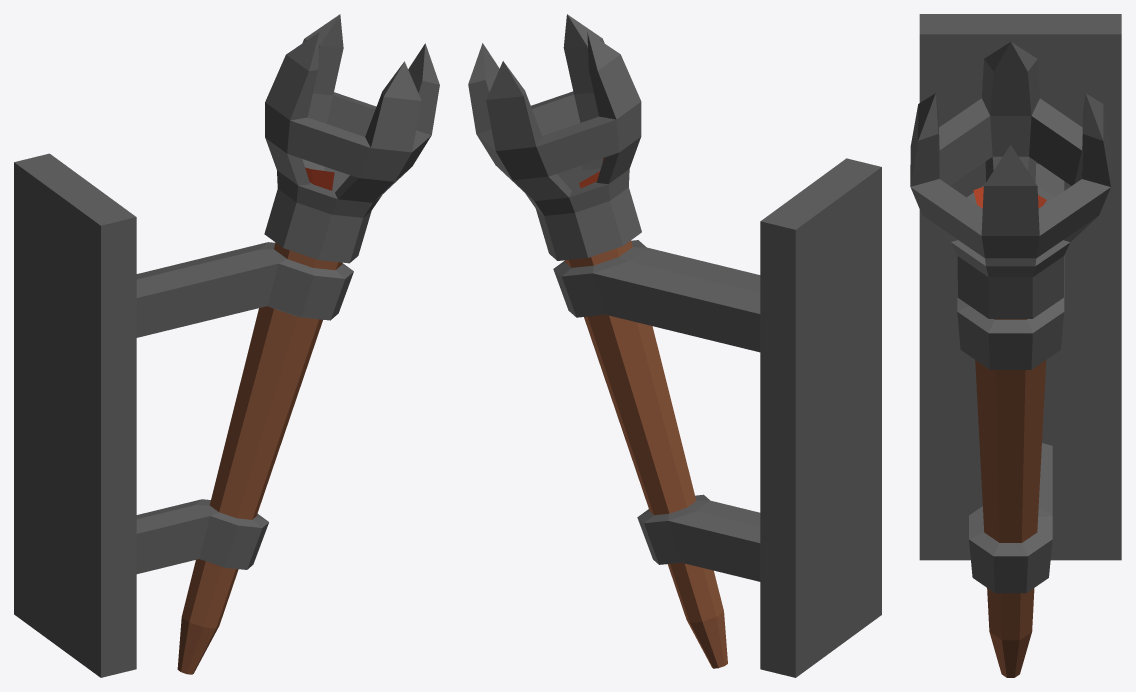
File: Torch_wall.fbx
3 renders of one model, left to right at view 1: azimuth 30°, elevation 25°; view 2: azimuth 150°, elevation 25°; view 3: azimuth 270°, elevation 25°, orthographic. The views are drawn at different scales.
Visible parts, largest first — view 1: Torch; view 2: Torch; view 3: Torch.
Boxes of the visible parts, bbox=[...] form: Torch: bbox=[14, 14, 439, 677]; Torch: bbox=[468, 14, 881, 677]; Torch: bbox=[910, 14, 1121, 677].
Bounding box in the file's own units: 110 × 174 × 47.04.
